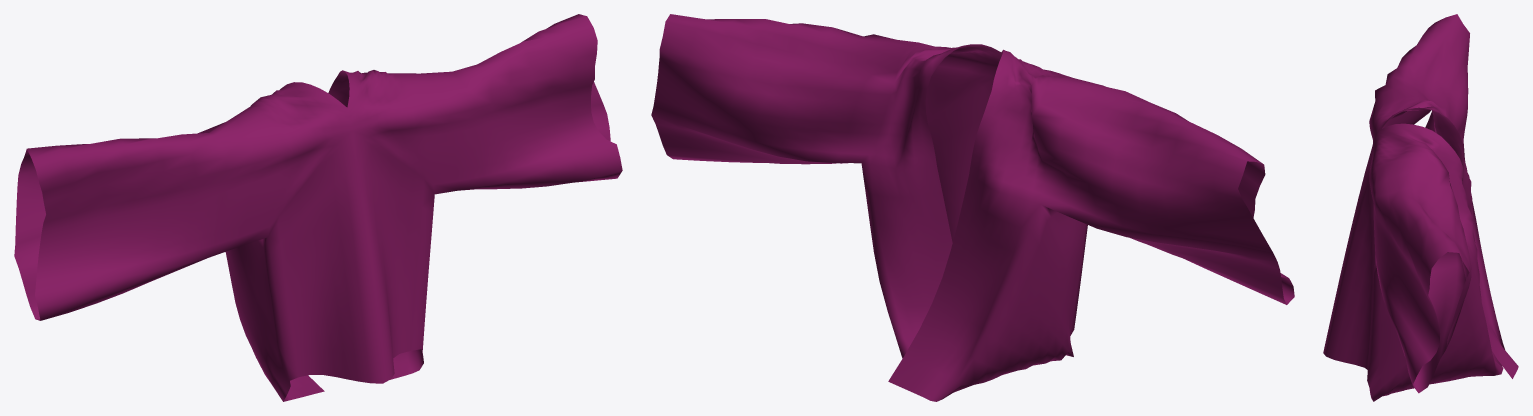
The model's file is cape.fbx.
3 views of the same model, side by side, from view 1: azimuth 30°, elevation 25°; view 2: azimuth 150°, elevation 25°; view 3: azimuth 270°, elevation 25° (orthographic). The views are drawn at different scales.
Parts seen in each view (by area): view 1: Cape; view 2: Cape; view 3: Cape.
Part boxes in pixels (x1,y1,x2,y2): Cape: [14, 14, 622, 401]; Cape: [651, 14, 1294, 401]; Cape: [1323, 14, 1518, 401].
Bounding box in the file's own units: 1282 × 599 × 414.
